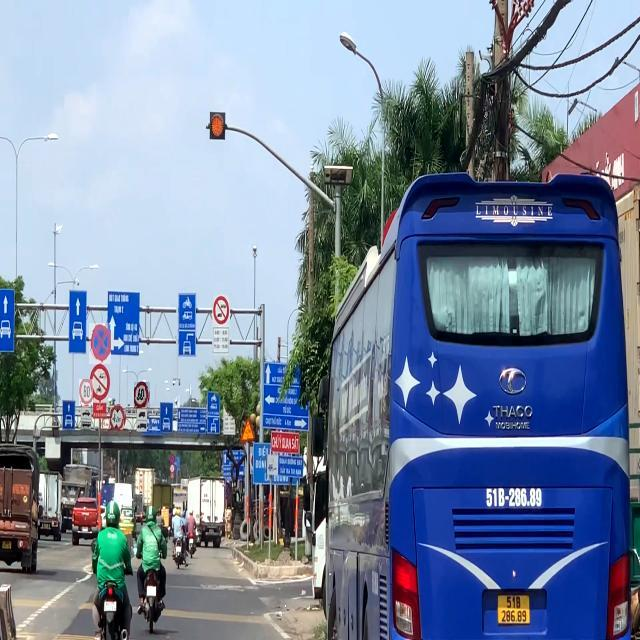P-117: (111, 404, 127, 430)
P-127: (134, 382, 150, 408), (79, 380, 93, 406)
P-130: (89, 323, 111, 364)
S-509a: (240, 417, 256, 445)
